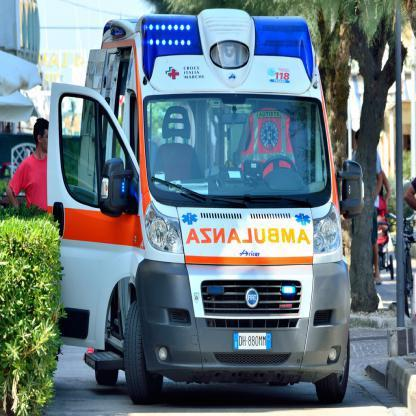ambulance_off: (44, 9, 347, 403)
